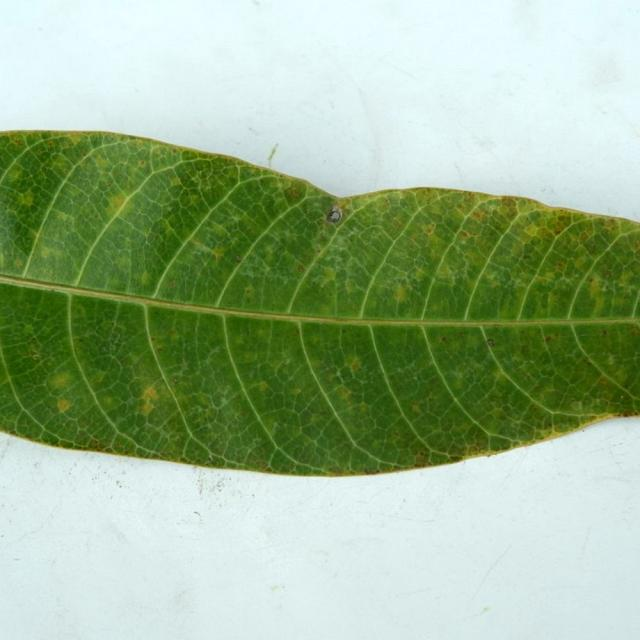Mango: (0, 132, 639, 474)
Powdery_Mildew: (168, 157, 250, 202), (134, 383, 167, 421), (52, 371, 78, 399), (587, 278, 604, 307), (38, 243, 63, 261), (246, 451, 270, 469), (107, 193, 128, 212), (553, 216, 572, 235), (159, 218, 177, 238), (210, 222, 230, 239), (501, 198, 518, 218), (284, 185, 304, 201), (27, 343, 44, 361), (392, 284, 408, 303), (345, 355, 362, 372), (211, 246, 226, 265), (89, 369, 106, 385), (55, 209, 73, 223), (524, 224, 542, 237), (322, 266, 336, 281), (243, 284, 255, 301), (21, 191, 34, 206), (140, 271, 152, 287), (255, 381, 269, 393), (339, 387, 351, 399), (243, 352, 257, 362), (22, 324, 34, 335), (472, 210, 485, 220), (170, 176, 181, 187), (188, 194, 200, 204), (423, 224, 435, 234), (411, 403, 421, 414), (89, 438, 100, 448), (75, 305, 85, 315), (13, 259, 24, 268), (329, 467, 343, 474), (439, 336, 451, 344), (607, 355, 616, 365), (416, 450, 426, 459), (11, 138, 22, 146), (468, 444, 479, 452), (622, 411, 636, 417), (167, 329, 176, 338), (460, 231, 470, 239), (364, 468, 377, 474), (290, 388, 301, 395), (603, 270, 612, 278), (33, 233, 41, 242), (486, 339, 495, 347), (556, 262, 566, 269), (296, 263, 304, 271), (544, 419, 552, 427), (523, 253, 532, 259), (395, 221, 402, 228), (47, 140, 54, 147), (600, 379, 608, 385), (423, 189, 431, 195), (139, 160, 146, 166), (545, 336, 552, 342), (601, 330, 608, 336), (172, 377, 178, 384), (235, 255, 241, 262), (151, 310, 158, 316), (168, 281, 174, 287), (296, 328, 301, 335), (588, 278, 594, 283), (119, 358, 124, 364), (111, 322, 116, 327), (278, 174, 284, 178), (341, 330, 346, 334)
